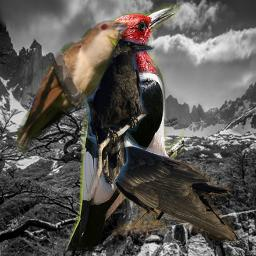Crow: (85, 122, 236, 242), (85, 38, 155, 194)
Cuckoo: (12, 20, 128, 156)
Woodpecker: (62, 3, 184, 251)
